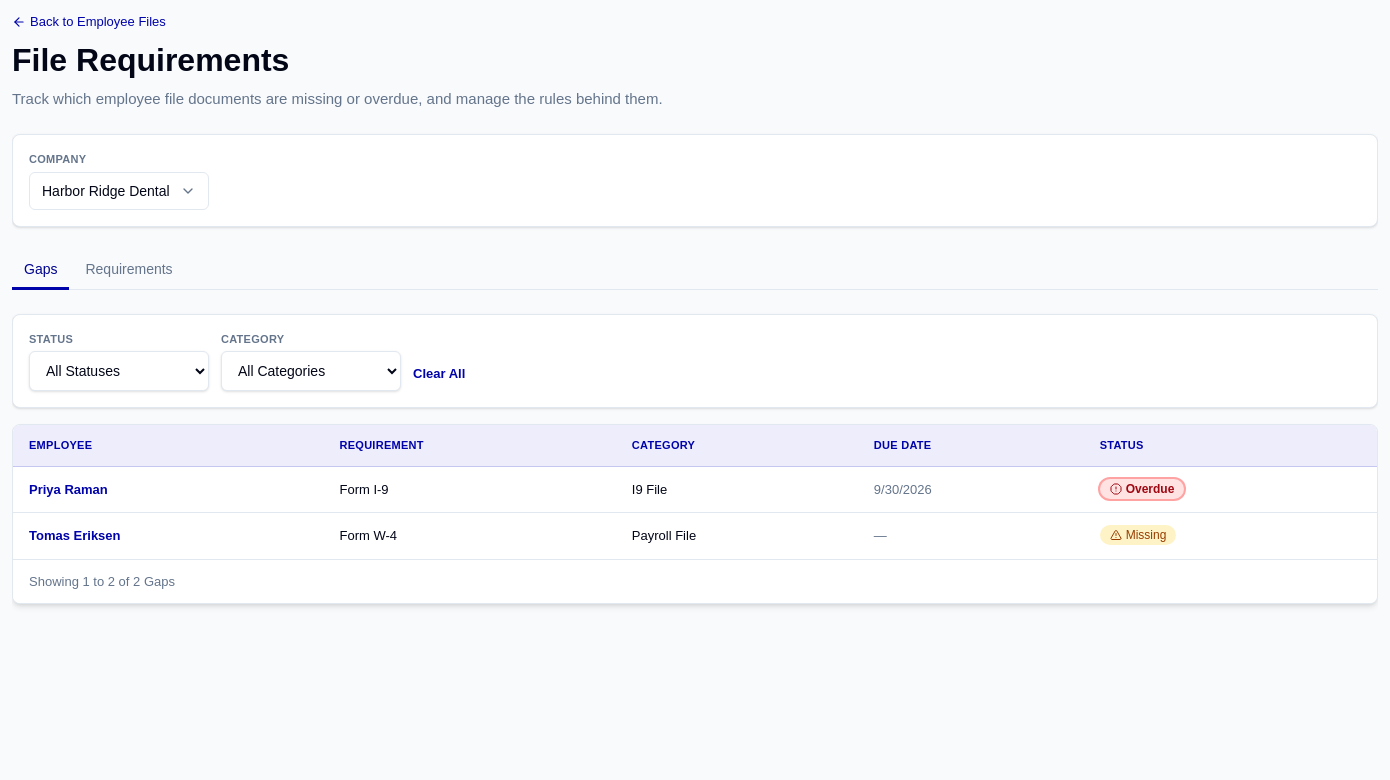
Test: MhdEmployeeFileRequirementsPage requirements › lists rules with how they are satisfied, states, due days and source
Click the tab "Requirements" at (129,270), box [74, 251, 185, 290]
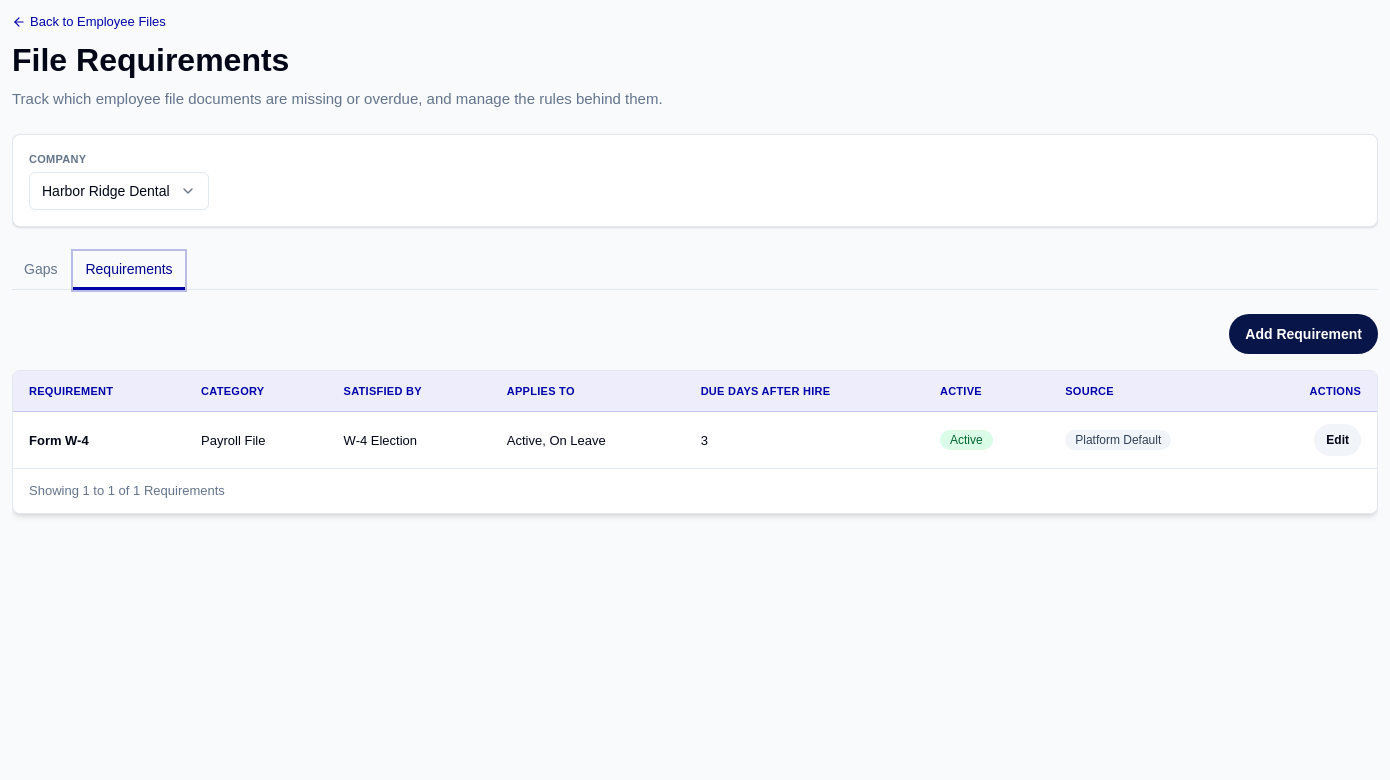
Now the text "W-4 Election" is shown, box [328, 412, 491, 468]
Now the text "Active, On Leave" is shown, box [491, 412, 685, 468]
Now the text "Platform Default" is shown, box [1065, 430, 1171, 450]
